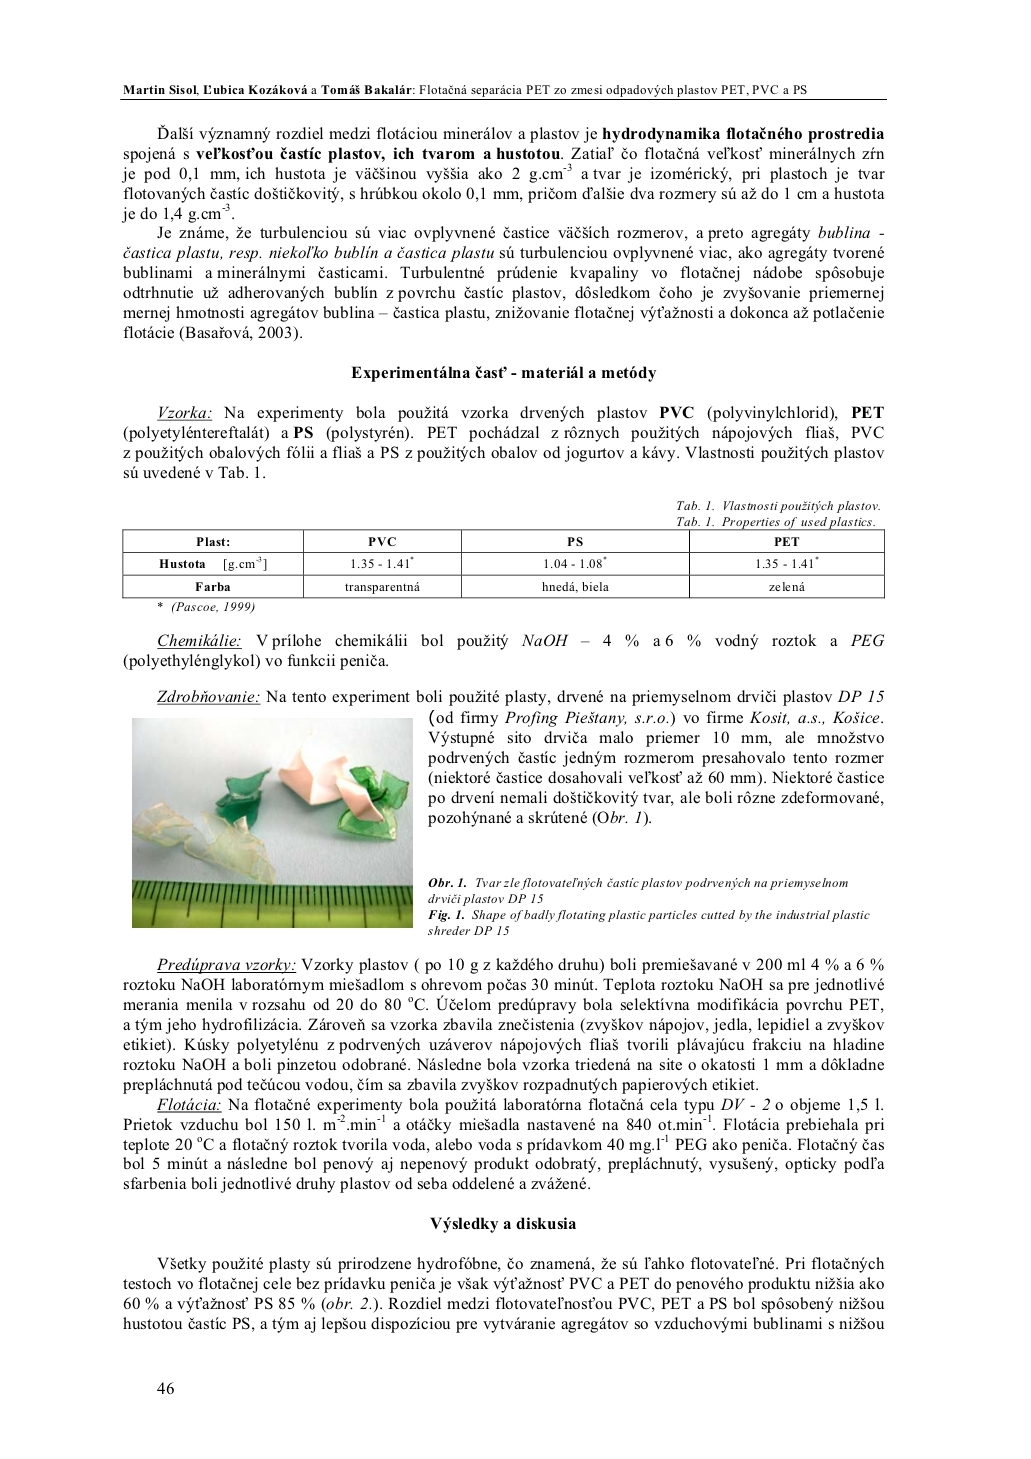Table: (122, 501, 884, 613)
figure: (131, 718, 413, 927)
